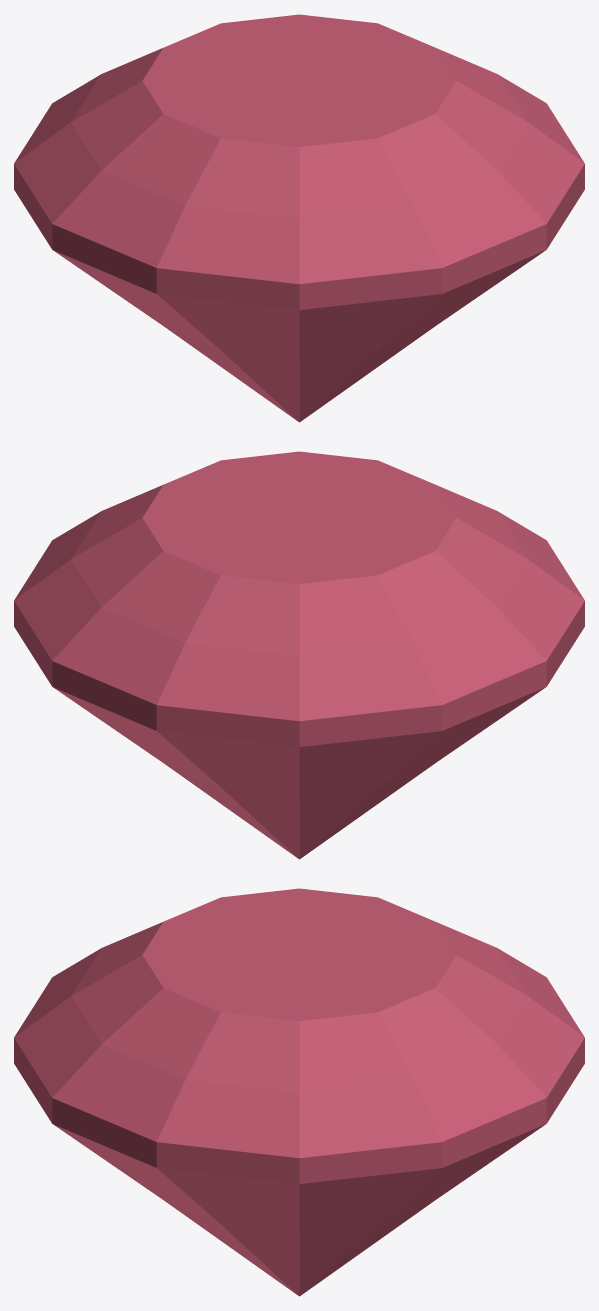
File: garnet-glass.glb
3 renders of one model, top to bottom at view 1: azimuth 30°, elevation 25°; view 2: azimuth 150°, elevation 25°; view 3: azimuth 270°, elevation 25°, orthographic.
Visible parts, largest first — view 1: Garnet; view 2: Garnet; view 3: Garnet.
Boxes of the visible parts, box(x1,y1,x2,y2) form: Garnet: box(14, 14, 584, 422); Garnet: box(14, 451, 584, 859); Garnet: box(14, 888, 584, 1296).
Size of the model in its own units: 2 by 1.32 by 2.
